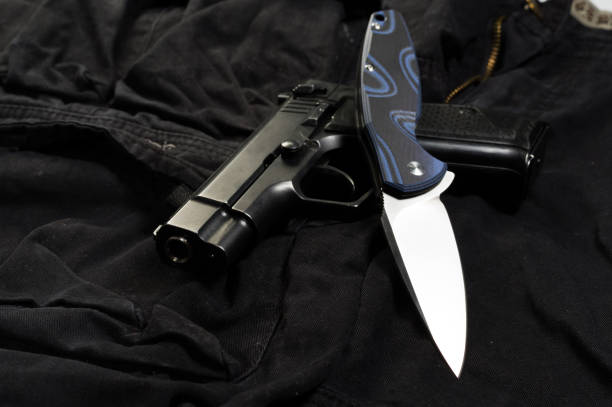gun: (151, 76, 551, 274)
knife: (361, 9, 468, 381)
